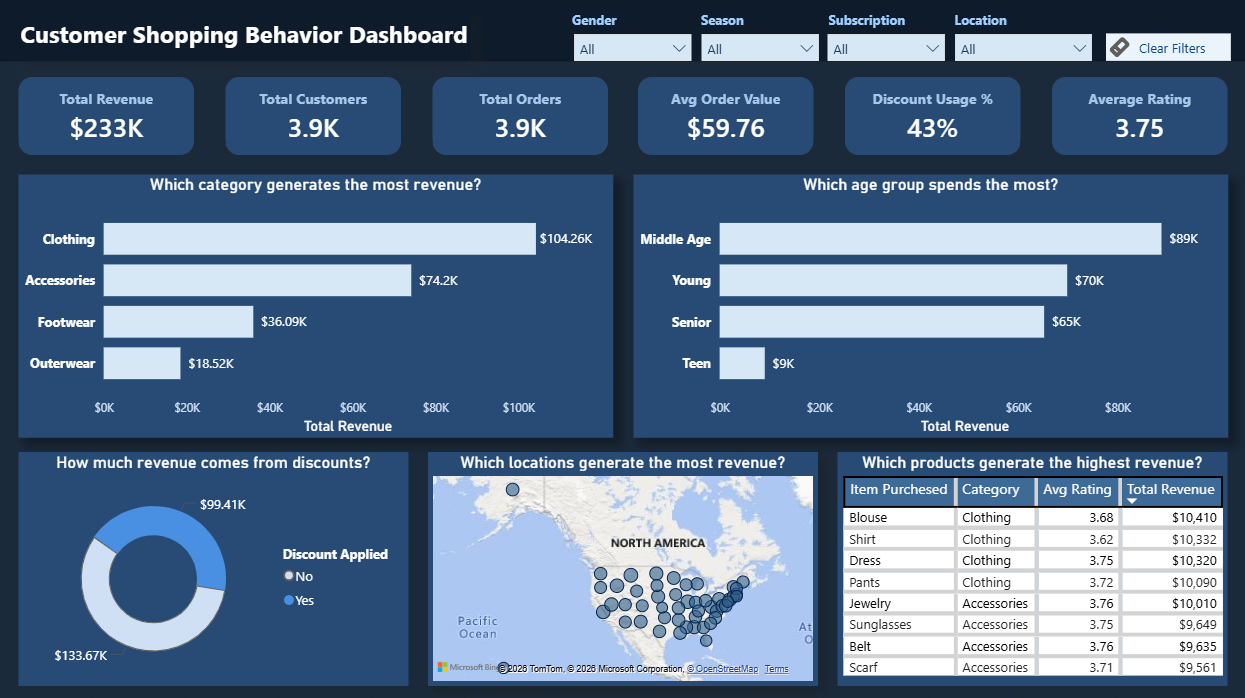

Layout of this report page (visuals, bound fields, positions):
{"tool":"powerbi","page":{"name":"Customer_Behavior","canvas":[1280,720],"ordinal":0},"visuals":[{"type":"shape","box":[0,0,1280,64],"z":0},{"type":"textbox","box":[20,16,464,48],"z":1000},{"type":"slicer","fields":{"Values":["customer.location"]},"box":[970,26,160,40],"z":2000},{"type":"slicer","fields":{"Values":["customer.subscription_status"]},"box":[840,26,140,40],"z":3000},{"type":"slicer","fields":{"Values":["customer.season"]},"box":[710,26,140,40],"z":4000},{"type":"slicer","fields":{"Values":["customer.gender"]},"box":[580,26,140,40],"z":5000},{"type":"textbox","box":[980,12,60,18],"z":6000},{"type":"textbox","box":[588,12,56,24],"z":7000},{"type":"textbox","box":[720,12,55,24],"z":8000},{"type":"textbox","box":[850,12,90,24],"z":9000},{"type":"cardVisual","fields":{"Data":["customer.Total Revenue"]},"box":[20,80,180,80],"z":10000},{"type":"cardVisual","fields":{"Data":["customer.Discount Usage %"]},"box":[868,80,180,80],"z":11000},{"type":"cardVisual","fields":{"Data":["customer.Total Orders"]},"box":[444,80,180,80],"z":12000},{"type":"cardVisual","fields":{"Data":["customer.Average Order Value"]},"box":[656,80,180,80],"z":13000},{"type":"cardVisual","fields":{"Data":["customer.Average Rating"]},"box":[1080,80,180,80],"z":14000},{"type":"cardVisual","fields":{"Data":["customer.Total Customers"]},"box":[232,80,180,80],"z":15000},{"type":"clusteredBarChart","title":"Which category generates the most revenue?","fields":{"Category":["customer.category"],"Y":["customer.Total Revenue"]},"box":[20,180,610,270],"z":16000},{"type":"clusteredBarChart","title":"Which age group spends the most?","fields":{"Category":["customer.age_group"],"Y":["customer.Total Revenue"]},"box":[650,180,610,270],"z":17000},{"type":"donutChart","title":"How much revenue comes from discounts?","fields":{"Y":["customer.Total Revenue"],"Category":["customer.discount_applied"]},"box":[20,464,400,240],"z":18000},{"type":"map","title":"Which locations generate the most revenue?","fields":{"Category":["customer.location"],"Size":["customer.Total Revenue"]},"box":[440,464,400,240],"z":19000},{"type":"tableEx","title":"Which products generate the highest revenue?","fields":{"Values":["customer.item_purchased","customer.category","customer.Average Rating","customer.Total Revenue"]},"box":[860,464,400,240],"z":20000},{"type":"actionButton","box":[1136,36,128,28],"z":21000}]}

Visuals, with their boxes in screenshot pixels (x1, y1, x2, y2), scaled from the page's 1280x720 canvas onto the 1245x698 screenshot:
shape: <region>0, 0, 1244, 62</region>
textbox: <region>19, 16, 471, 62</region>
slicer - customer.location: <region>943, 25, 1099, 64</region>
slicer - customer.subscription_status: <region>817, 25, 953, 64</region>
slicer - customer.season: <region>691, 25, 827, 64</region>
slicer - customer.gender: <region>564, 25, 700, 64</region>
textbox: <region>953, 12, 1012, 29</region>
textbox: <region>572, 12, 626, 35</region>
textbox: <region>700, 12, 754, 35</region>
textbox: <region>827, 12, 914, 35</region>
cardVisual - customer.Total Revenue: <region>19, 78, 195, 155</region>
cardVisual - customer.Discount Usage %: <region>844, 78, 1019, 155</region>
cardVisual - customer.Total Orders: <region>432, 78, 607, 155</region>
cardVisual - customer.Average Order Value: <region>638, 78, 813, 155</region>
cardVisual - customer.Average Rating: <region>1050, 78, 1226, 155</region>
cardVisual - customer.Total Customers: <region>226, 78, 401, 155</region>
"Which category generates the most revenue?" clusteredBarChart: <region>19, 174, 613, 436</region>
"Which age group spends the most?" clusteredBarChart: <region>632, 174, 1226, 436</region>
"How much revenue comes from discounts?" donutChart: <region>19, 450, 409, 682</region>
"Which locations generate the most revenue?" map: <region>428, 450, 817, 682</region>
"Which products generate the highest revenue?" tableEx: <region>836, 450, 1226, 682</region>
actionButton: <region>1105, 35, 1229, 62</region>
